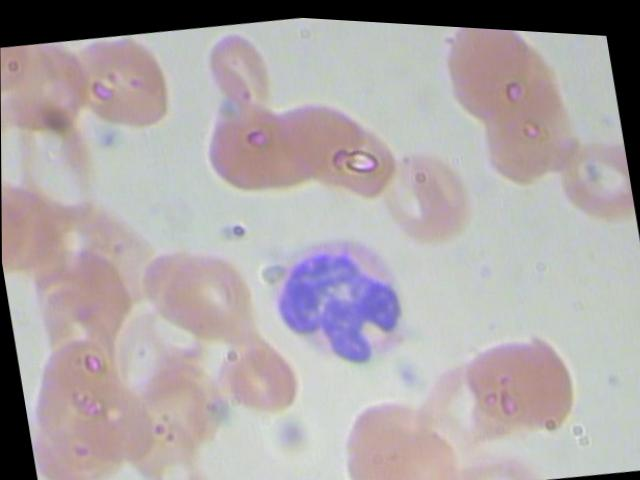Platelets: (261, 406, 311, 453), (381, 343, 430, 390)
Red Blood Cells: (263, 75, 408, 216), (52, 24, 189, 149), (458, 316, 592, 440), (194, 86, 333, 205), (463, 68, 596, 191), (329, 376, 464, 479), (431, 20, 566, 120), (1, 104, 109, 229), (23, 325, 128, 451), (367, 133, 480, 246), (155, 234, 260, 342), (206, 318, 311, 425), (549, 114, 637, 233), (198, 16, 282, 122), (1, 173, 67, 291), (125, 429, 235, 479)
White Blood Cells: (259, 210, 423, 381)
